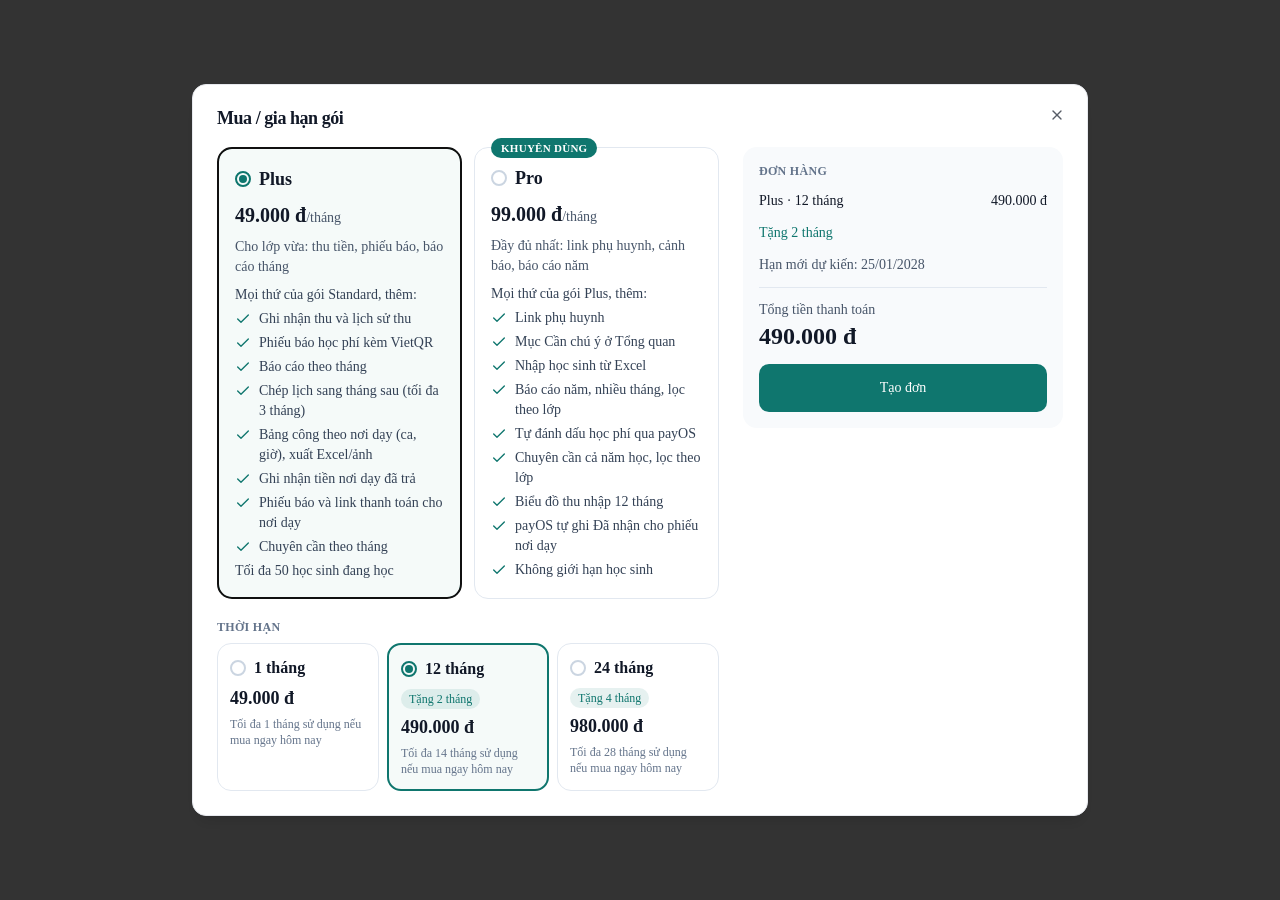
Scenario: PlanPurchaseDialog › gia hạn sớm Plus còn 45 ngày: 12 tháng Tặng 2 / Tối đa 14, 24 tháng Tặng 4 / Tối đa 28; lên Pro năm có +22 ngày quy đổi
The image size is (1280, 900).
Click the radio button with test id "purchase-plan-pro" at (596, 373), box [474,147,719,599]
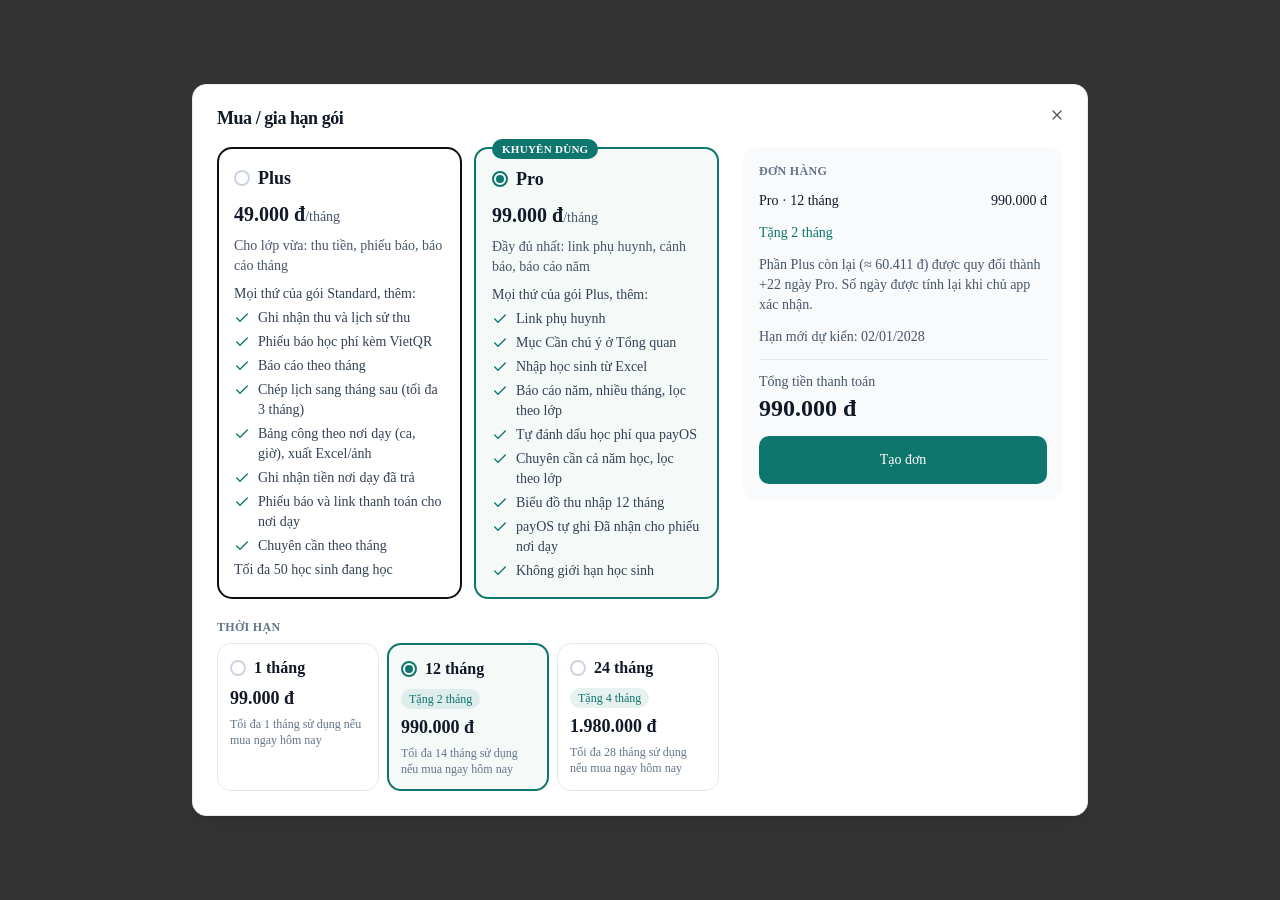
Result: the element with test id "purchase-summary" shows "+22 ngày Pro" at [759,257,1040,312]
